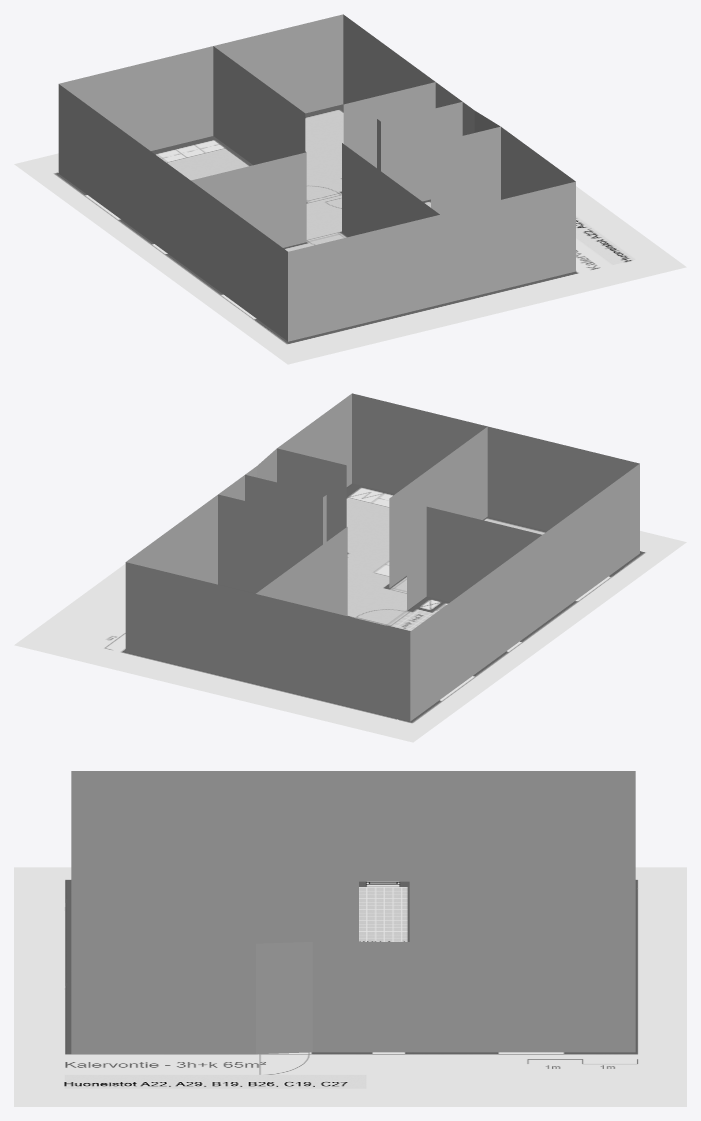
The model's file is kalervontie_1_3hk.fbx.
3 renders of one model, top to bottom at view 1: azimuth 30°, elevation 25°; view 2: azimuth 150°, elevation 25°; view 3: azimuth 270°, elevation 25°, orthographic. The views are drawn at different scales.
Parts seen in each view (by area): view 1: Walls, Floorplan; view 2: Walls, Floorplan; view 3: Walls, Floorplan.
Boxes of the visible parts, x1,y1,x2,y2 form: Walls: [58, 14, 575, 341]; Floorplan: [14, 104, 686, 364]; Walls: [125, 393, 639, 721]; Floorplan: [14, 483, 686, 742]; Walls: [71, 771, 635, 1054]; Floorplan: [14, 867, 686, 1106].
Size of the model in its own units: 200 by 43.07 by 238.
2 materials, 1 textured.
